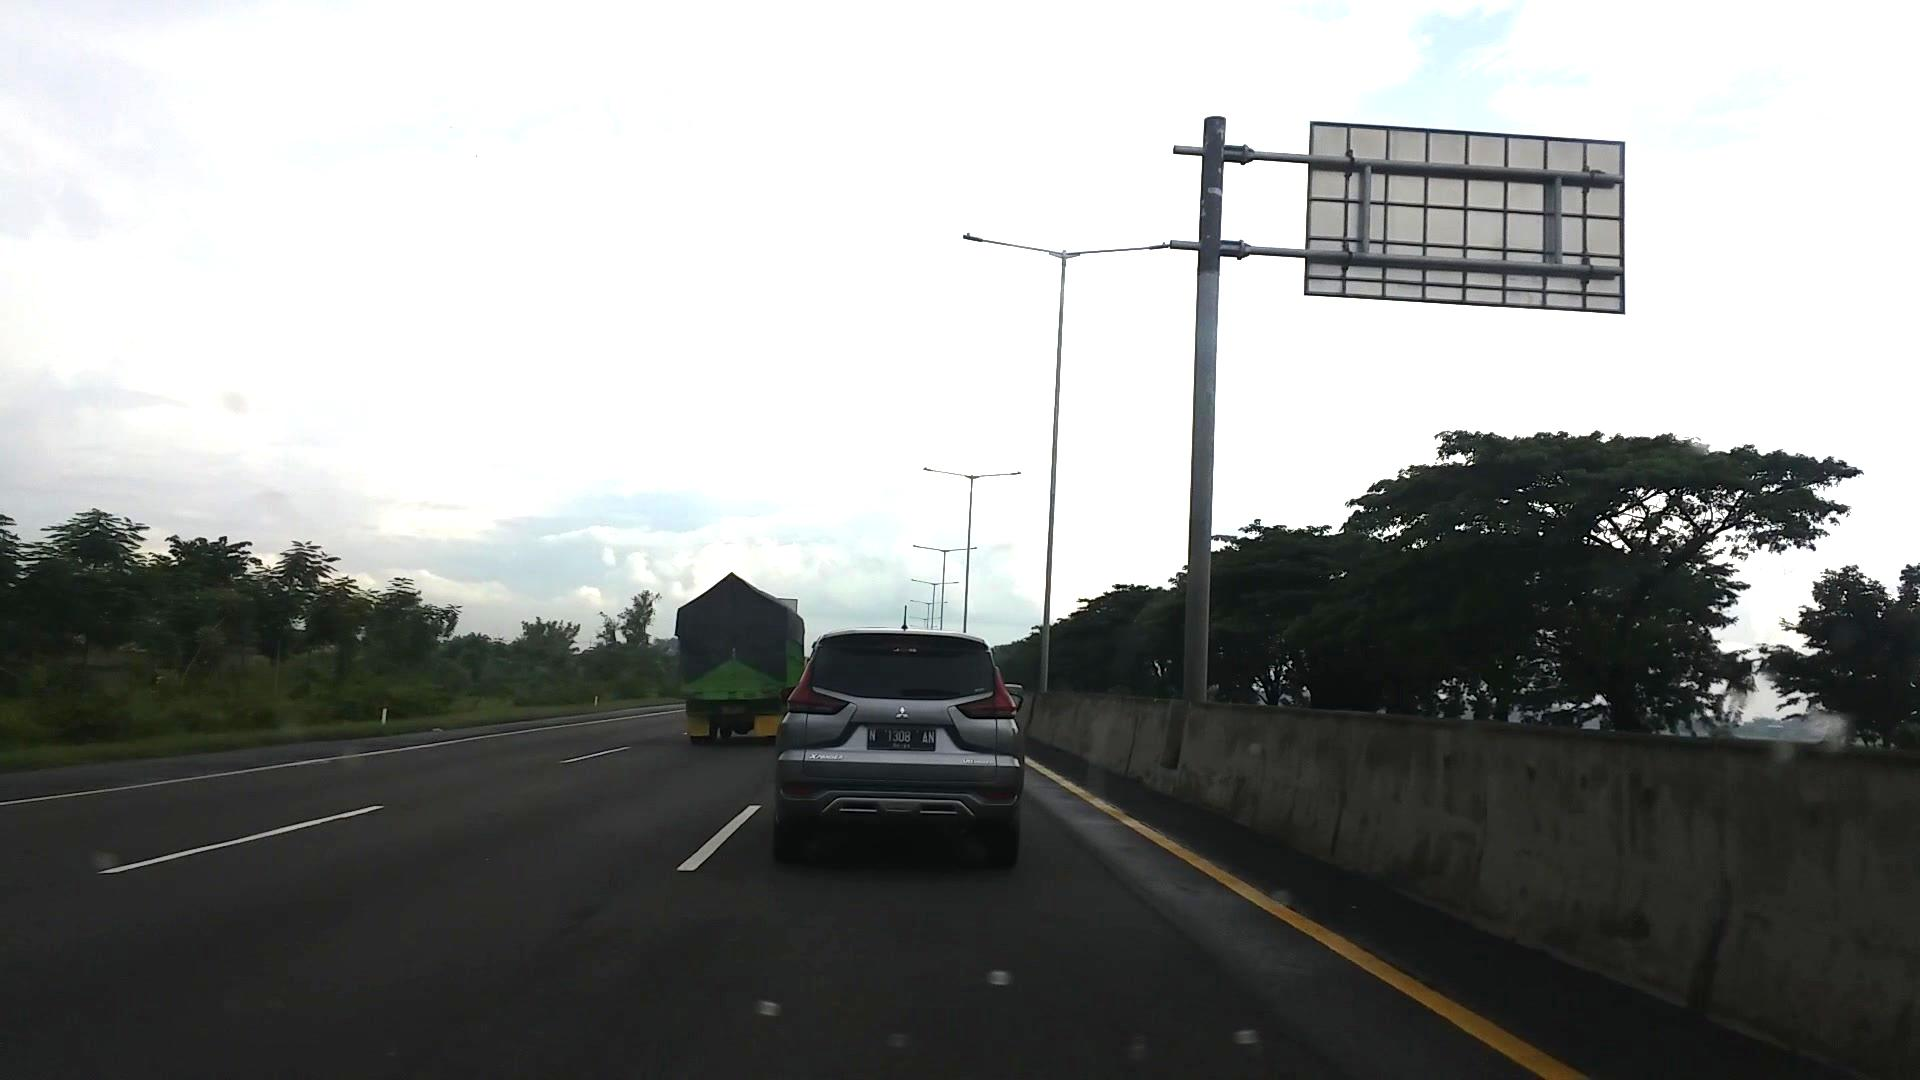plate_positive: (866, 724, 936, 752)
